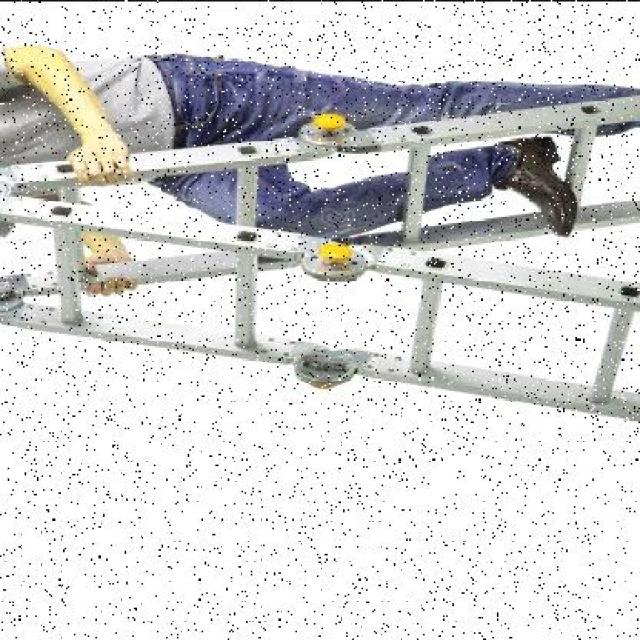shoes: (484, 133, 588, 235)
